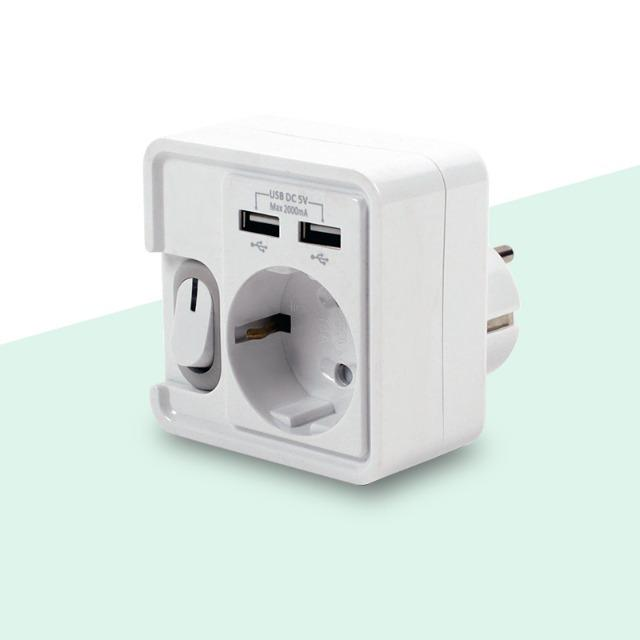typeb: (168, 223, 438, 505)
